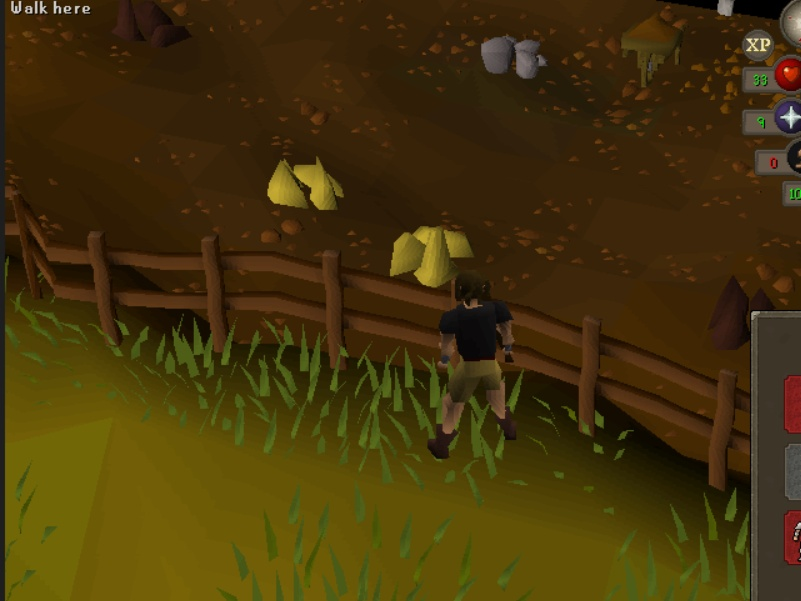gold: (384, 216, 484, 291), (261, 146, 353, 216)
iron: (700, 269, 796, 355), (100, 1, 200, 53)
